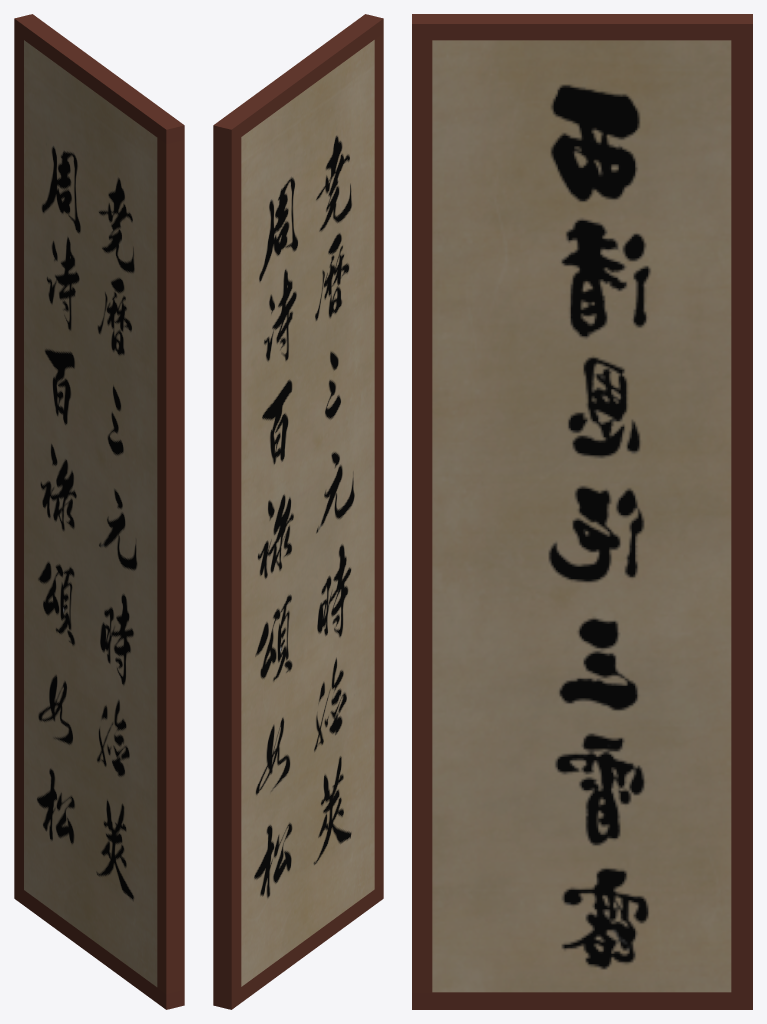
Rendered from SM_StelaPaper01D.fbx.
3 views of the same model, side by side, from view 1: azimuth 30°, elevation 25°; view 2: azimuth 150°, elevation 25°; view 3: azimuth 270°, elevation 25° (orthographic). The views are drawn at different scales.
Parts seen in each view (by area): view 1: SM_StelaPaper01D; view 2: SM_StelaPaper01D; view 3: SM_StelaPaper01D.
Boxes of the visible parts, left/top/right/bottom form: SM_StelaPaper01D: left=14, top=14, right=184, bottom=1009; SM_StelaPaper01D: left=213, top=14, right=383, bottom=1009; SM_StelaPaper01D: left=412, top=14, right=752, bottom=1009.
Bounding box in the file's own units: 3.53 × 50.87 × 162.
